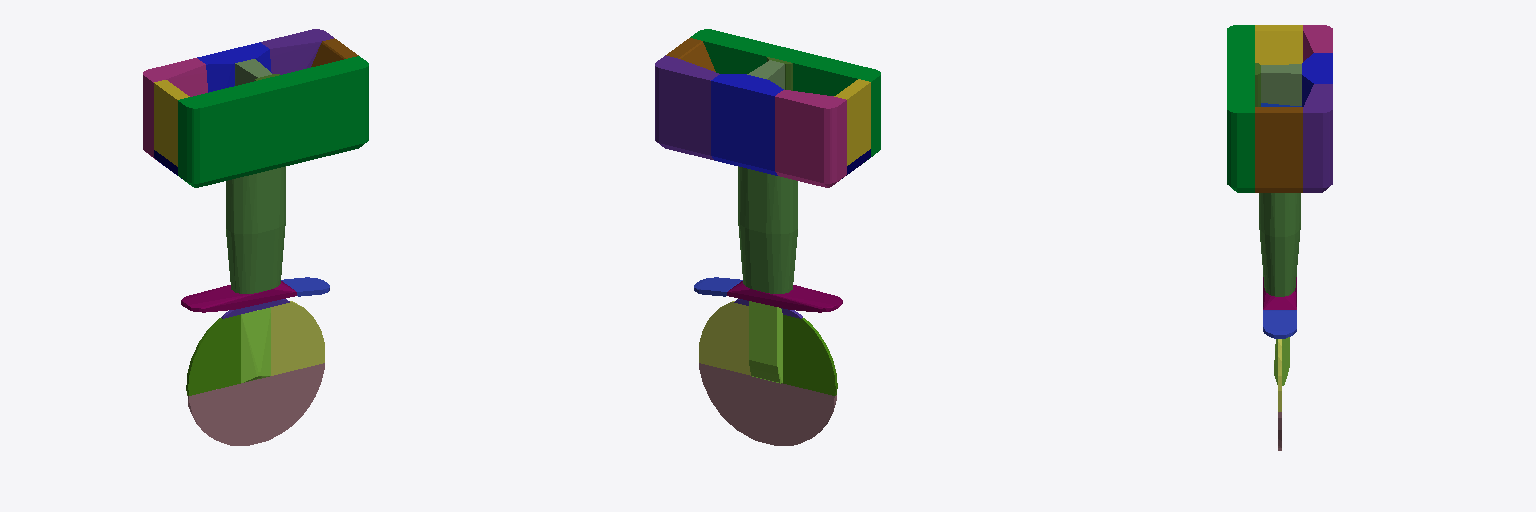
Rendered from Holder_pizza.obj.
The picture shows the model from 3 angles: view 1: azimuth 30°, elevation 25°; view 2: azimuth 150°, elevation 25°; view 3: azimuth 270°, elevation 25°; orthographic projection.
Parts seen in each view (by area): view 1: Shape_IndexedFaceSet.001, Shape_IndexedFaceSet.002, Shape_IndexedFaceSet, Shape_IndexedFaceSet.011, Shape_IndexedFaceSet.005, Shape_IndexedFaceSet.004, Shape_IndexedFaceSet.012, Shape_IndexedFaceSet.010, Shape_IndexedFaceSet.008, Shape_IndexedFaceSet.003, Shape_IndexedFaceSet.009, Shape_IndexedFaceSet.015 (+2 smaller); view 2: Shape_IndexedFaceSet.002, Shape_IndexedFaceSet, Shape_IndexedFaceSet.004, Shape_IndexedFaceSet.009, Shape_IndexedFaceSet.001, Shape_IndexedFaceSet.010, Shape_IndexedFaceSet.011, Shape_IndexedFaceSet.005, Shape_IndexedFaceSet.012, Shape_IndexedFaceSet.008, Shape_IndexedFaceSet.003, Shape_IndexedFaceSet.015 (+2 smaller); view 3: Shape_IndexedFaceSet.001, Shape_IndexedFaceSet.015, Shape_IndexedFaceSet, Shape_IndexedFaceSet.010, Shape_IndexedFaceSet.008, Shape_IndexedFaceSet.016, Shape_IndexedFaceSet.009, Shape_IndexedFaceSet.006, Shape_IndexedFaceSet.004, Shape_IndexedFaceSet.003.
Part boxes in pixels (x1,y1,x2,y2): Shape_IndexedFaceSet.001: (178, 56, 368, 187); Shape_IndexedFaceSet.002: (187, 363, 324, 445); Shape_IndexedFaceSet: (226, 166, 285, 293); Shape_IndexedFaceSet.011: (186, 315, 240, 395); Shape_IndexedFaceSet.005: (271, 301, 324, 375); Shape_IndexedFaceSet.004: (143, 58, 207, 162); Shape_IndexedFaceSet.012: (241, 307, 270, 382); Shape_IndexedFaceSet.010: (261, 29, 333, 74); Shape_IndexedFaceSet.008: (154, 80, 189, 166); Shape_IndexedFaceSet.003: (181, 281, 296, 312); Shape_IndexedFaceSet.009: (197, 42, 271, 92); Shape_IndexedFaceSet.015: (311, 38, 358, 66); Shape_IndexedFaceSet.002: (699, 363, 836, 445); Shape_IndexedFaceSet: (738, 166, 797, 293); Shape_IndexedFaceSet.004: (775, 90, 846, 187); Shape_IndexedFaceSet.009: (711, 74, 783, 175); Shape_IndexedFaceSet.001: (690, 29, 880, 162); Shape_IndexedFaceSet.010: (655, 55, 719, 160); Shape_IndexedFaceSet.011: (783, 315, 837, 395); Shape_IndexedFaceSet.005: (699, 301, 750, 375); Shape_IndexedFaceSet.012: (749, 301, 782, 383); Shape_IndexedFaceSet.008: (834, 79, 870, 165); Shape_IndexedFaceSet.003: (727, 281, 842, 312); Shape_IndexedFaceSet.015: (666, 38, 715, 71); Shape_IndexedFaceSet.001: (1227, 25, 1254, 192); Shape_IndexedFaceSet.015: (1255, 107, 1302, 192); Shape_IndexedFaceSet: (1259, 193, 1300, 296); Shape_IndexedFaceSet.010: (1303, 84, 1332, 192); Shape_IndexedFaceSet.008: (1255, 25, 1302, 64); Shape_IndexedFaceSet.016: (1261, 64, 1301, 105); Shape_IndexedFaceSet.009: (1302, 53, 1332, 106); Shape_IndexedFaceSet.006: (1263, 310, 1296, 338); Shape_IndexedFaceSet.004: (1303, 25, 1332, 61); Shape_IndexedFaceSet.003: (1263, 277, 1296, 309).
Bounding box in the file's own units: 0.0805 × 0.1585 × 0.0405.